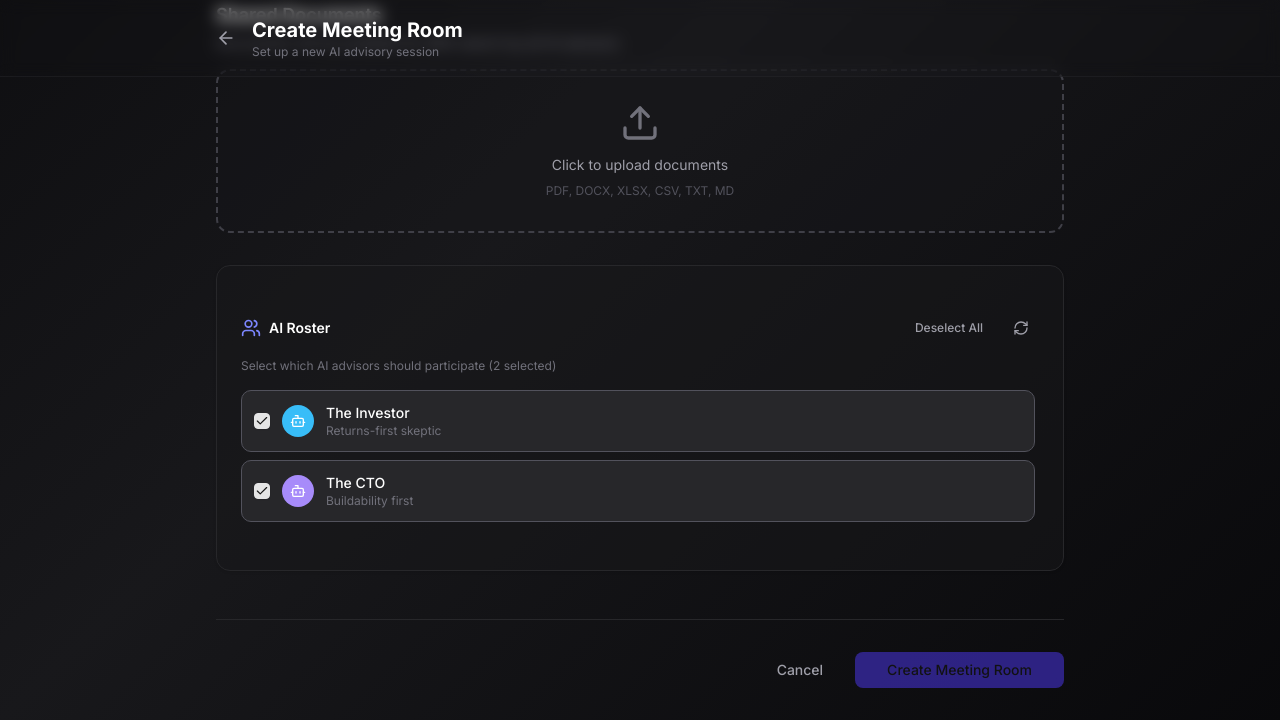
Test case: create meeting roster reconciliation › keeps a deselected persona deselected when the catalog changes its metadata
The width and height of the screenshot is (1280, 720).
(page scrolled)
Expected: the text "The Investor" is shown, [326,404,410,421]
Expected: the text "Select which AI advisors should participate (2 selected)" is shown, [241,358,556,373]
Click the checkbox next to "The Investor".
click(262, 421)  # box [254,413,270,429]
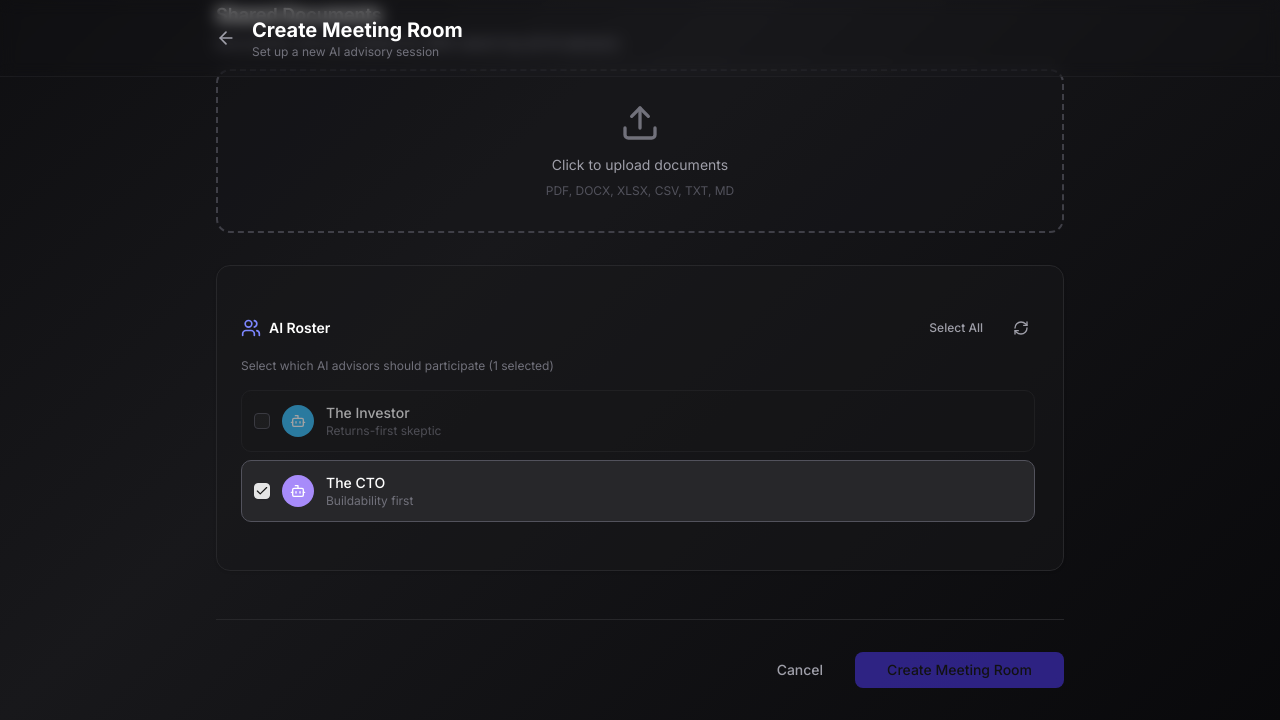
Now the text "Select which AI advisors should participate (1 selected)" is shown, box [241,358,554,373]
Click the button with class "lucide-refresh-cw".
click(1021, 328)  # box [1003,314,1039,342]
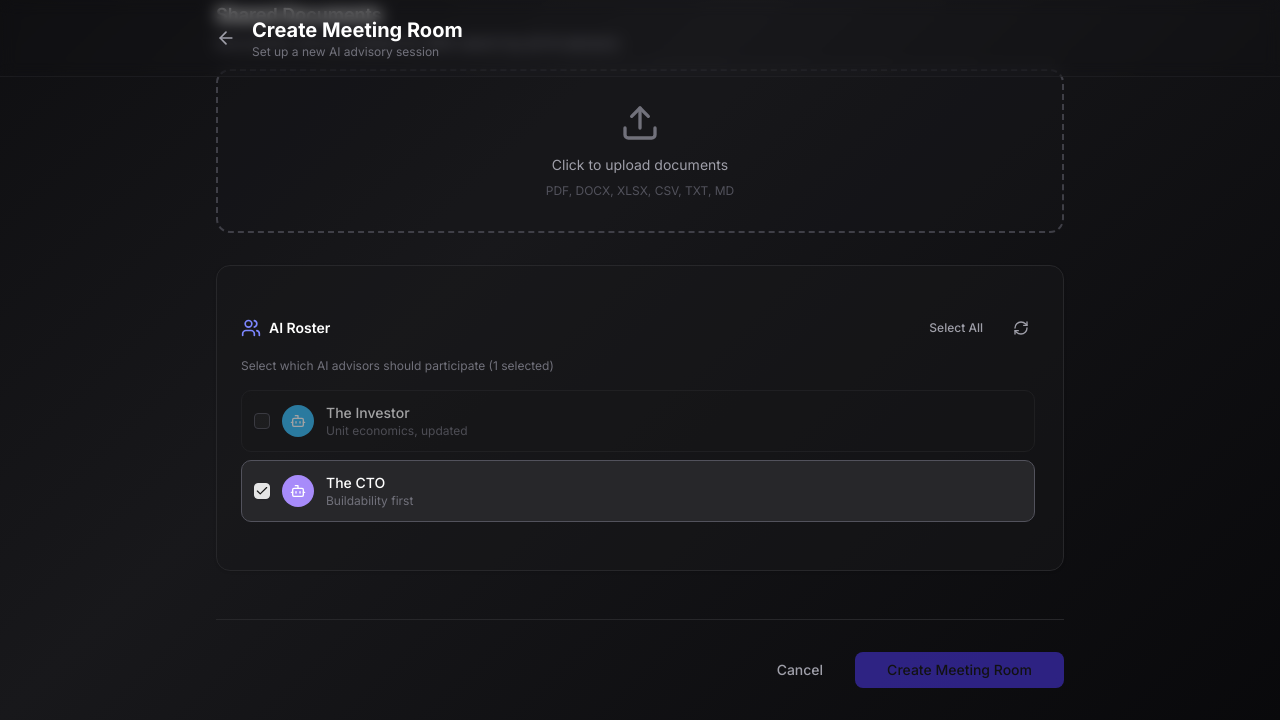
Now the checkbox next to "The Investor" is not checked, box [254,413,270,429]
Now the text "Select which AI advisors should participate (1 selected)" is shown, box [241,358,554,373]
Now the text "Unit economics, updated" is shown, box [326,423,468,438]
